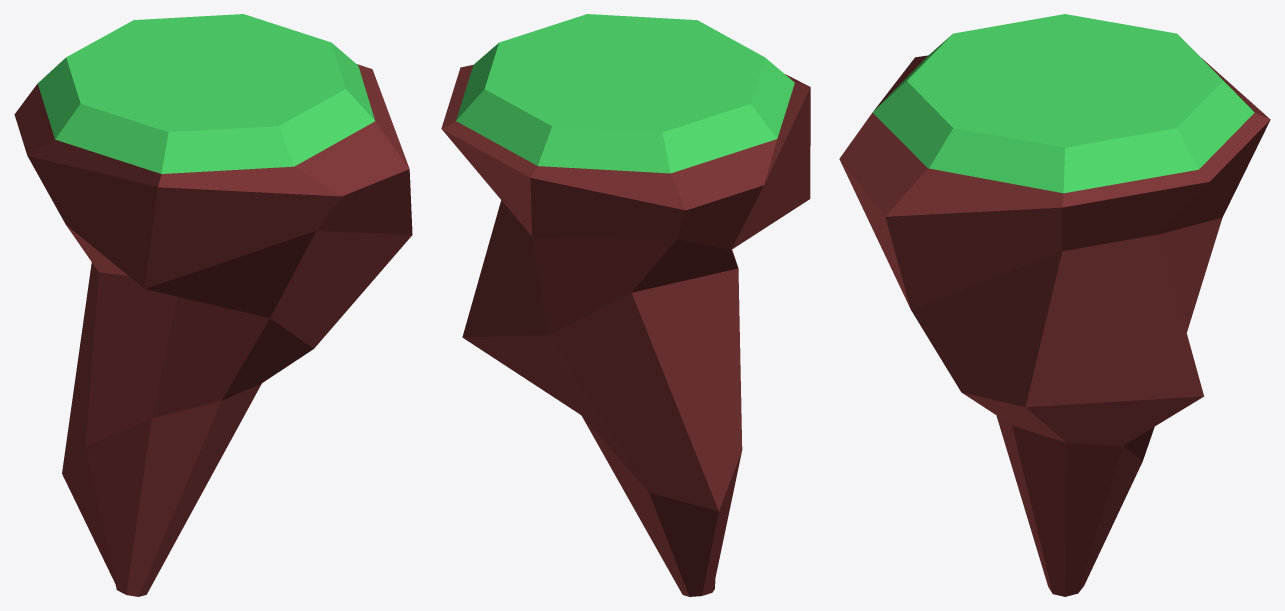
File: Island3.fbx
3 renders of one model, left to right at view 1: azimuth 30°, elevation 25°; view 2: azimuth 150°, elevation 25°; view 3: azimuth 270°, elevation 25°, orthographic. The views are drawn at different scales.
Parts seen in each view (by area): view 1: Cylinder.005, Cylinder.006; view 2: Cylinder.005, Cylinder.006; view 3: Cylinder.005, Cylinder.006.
Part boxes in pixels (x1=…): Cylinder.005: x1=14, y1=64, x2=412, y2=596; Cylinder.006: x1=37, y1=14, x2=374, y2=173; Cylinder.005: x1=441, y1=65, x2=810, y2=596; Cylinder.006: x1=456, y1=14, x2=794, y2=173; Cylinder.005: x1=839, y1=55, x2=1270, y2=596; Cylinder.006: x1=872, y1=14, x2=1254, y2=193.
Size of the model in its own units: 972 by 1026 by 1438.
